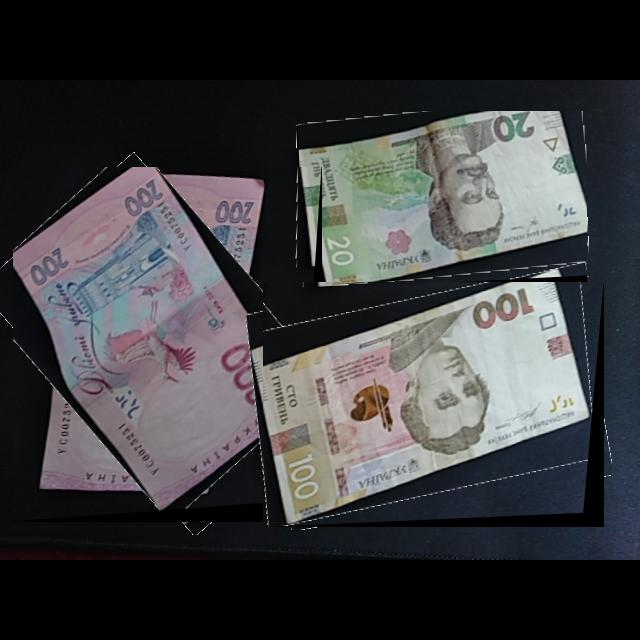100uah: (263, 282, 596, 527)
200uah: (13, 167, 310, 514)
20uah: (299, 111, 588, 290)
